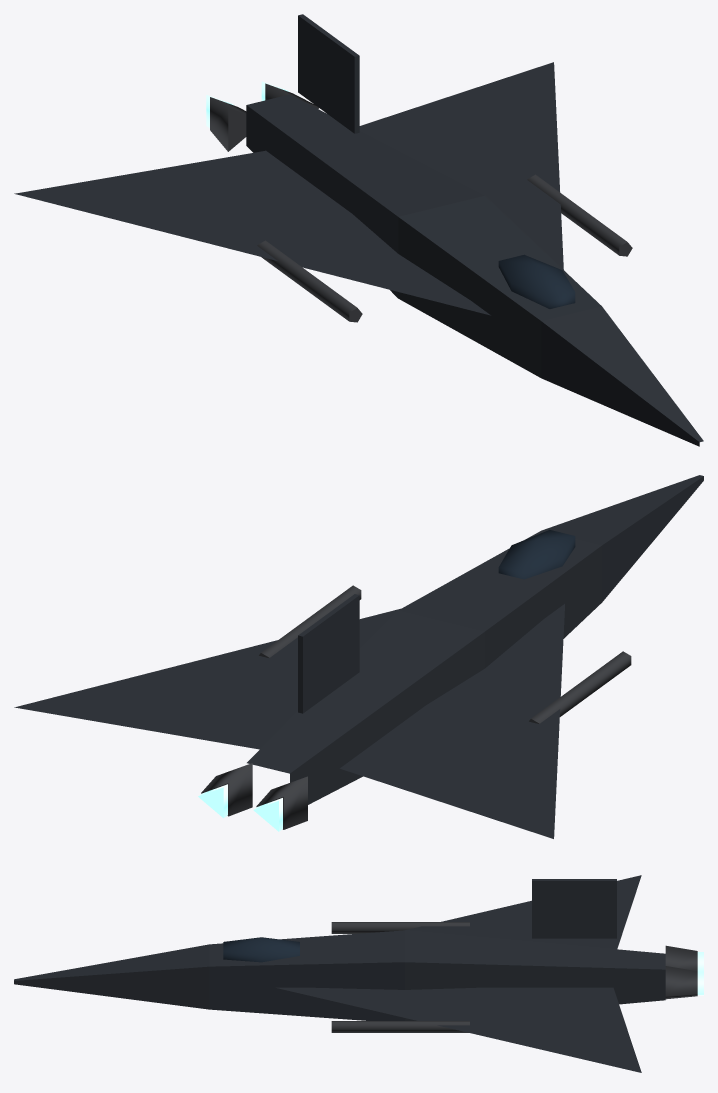
Rendered from space_ship_interceptor_mk4_lod2.glb.
3 views of the same model, one above another, from view 1: azimuth 30°, elevation 25°; view 2: azimuth 150°, elevation 25°; view 3: azimuth 270°, elevation 25° (orthographic). The views are drawn at different scales.
Parts seen in each view (by area): view 1: body, gun_r, gun_l, engine_0; view 2: body, engine_1, engine_0, gun_r, gun_l; view 3: body, gun_l, gun_r, engine_1, engine_0.
Boxes of the visible parts, box(x1,y1,x2,y2) form: body: box(14, 14, 703, 446); gun_r: box(257, 240, 362, 322); gun_l: box(527, 174, 632, 256); engine_0: box(206, 95, 246, 151); body: box(14, 475, 703, 838); engine_1: box(198, 763, 252, 818); engine_0: box(253, 776, 307, 831); gun_r: box(529, 651, 631, 723); gun_l: box(259, 585, 361, 657); body: box(14, 875, 665, 1072); gun_l: box(331, 1021, 469, 1032); gun_r: box(331, 922, 469, 933); engine_1: box(665, 966, 703, 999); engine_0: box(665, 945, 703, 972).
Bounding box in the file's own units: 8.8 × 2.65 × 12.96.
